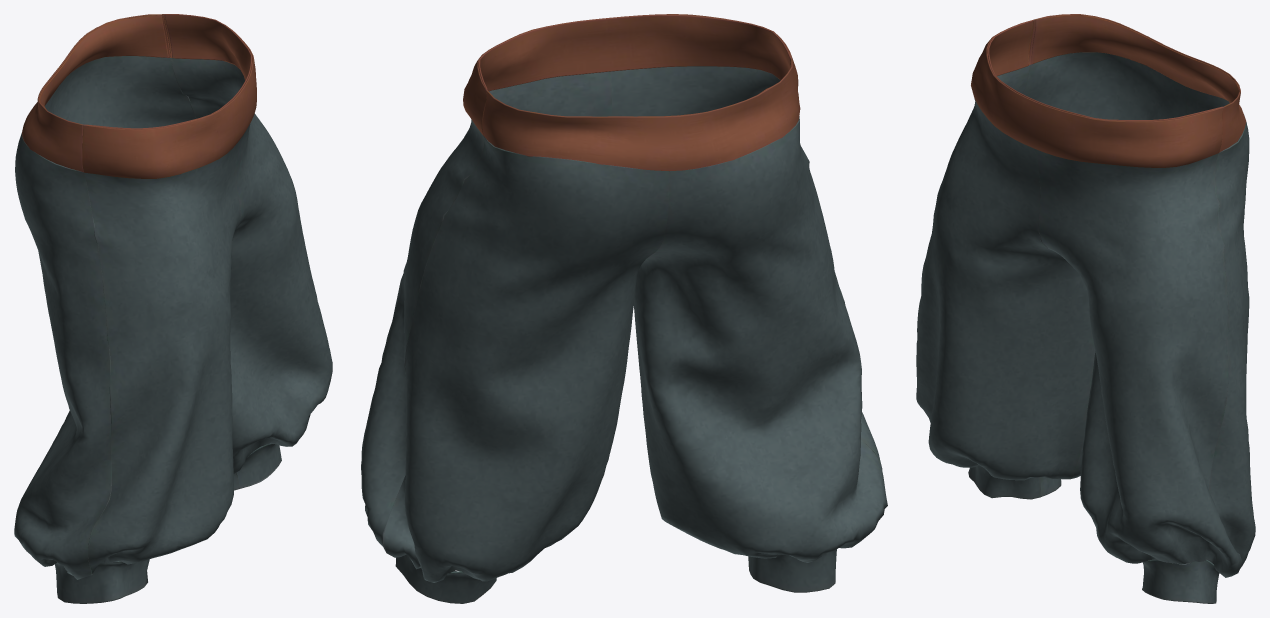
File: COSSACK_BLOOMERS_2#30.glb
The picture shows the model from 3 angles, left to right: view 1: azimuth 30°, elevation 25°; view 2: azimuth 150°, elevation 25°; view 3: azimuth 270°, elevation 25°; orthographic projection. The views are drawn at different scales.
Parts seen in each view (by area): view 1: niz_kazak_2_lev; view 2: niz_kazak_2_lev; view 3: niz_kazak_2_lev.
Part boxes in pixels (x1=…): niz_kazak_2_lev: x1=14, y1=14, x2=332, y2=603; niz_kazak_2_lev: x1=361, y1=14, x2=887, y2=603; niz_kazak_2_lev: x1=916, y1=14, x2=1255, y2=603.
Bounding box in the file's own units: 3.74 × 4.61 × 2.98.
1 material, 1 textured.
